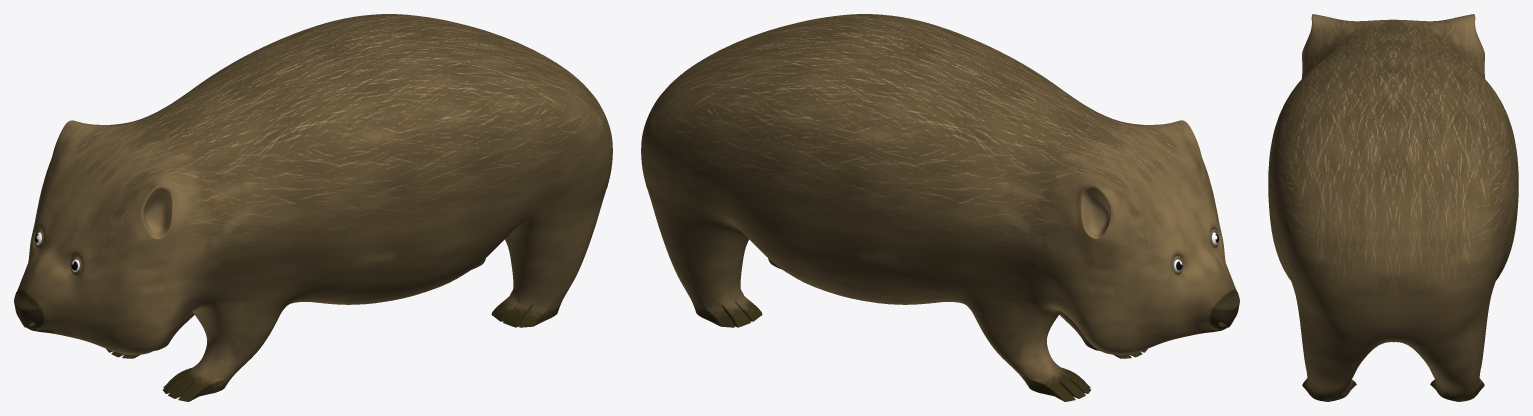
3 views of the same model, side by side, from view 1: azimuth 30°, elevation 25°; view 2: azimuth 150°, elevation 25°; view 3: azimuth 270°, elevation 25° (orthographic). The views are drawn at different scales.
Parts seen in each view (by area): view 1: Wombat_high; view 2: Wombat_high; view 3: Wombat_high.
Part boxes in pixels (bbox=[...]): Wombat_high: bbox=[14, 14, 612, 401]; Wombat_high: bbox=[641, 14, 1239, 401]; Wombat_high: bbox=[1268, 14, 1518, 401].
Size of the model in its own units: 0.8109 by 0.3767 by 0.3387.
Materials: 1 (1 with a texture image).
